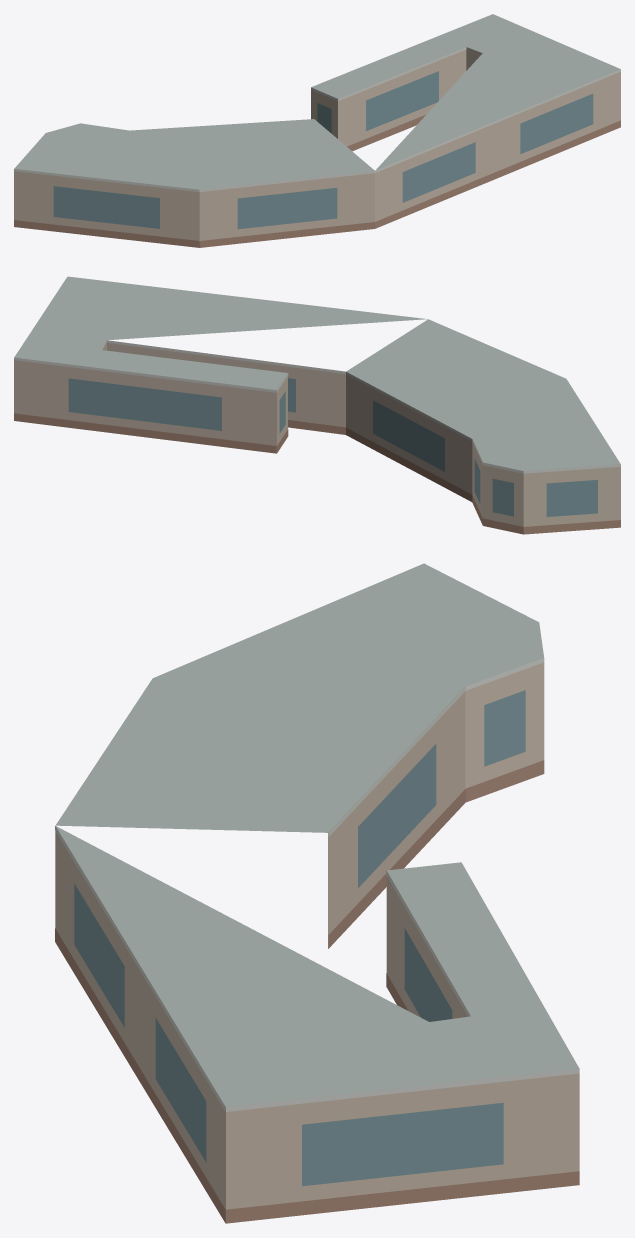
Rendered from survey-upis-32959282.glb.
The picture shows the model from 3 angles, top to bottom: view 1: azimuth 30°, elevation 25°; view 2: azimuth 150°, elevation 25°; view 3: azimuth 270°, elevation 25°; orthographic projection. The views are drawn at different scales.
Visible parts, largest first — view 1: survey-upis-32959282.tmp; view 2: survey-upis-32959282.tmp; view 3: survey-upis-32959282.tmp.
Part boxes in pixels (x1=…): survey-upis-32959282.tmp: x1=14, y1=14, x2=620, y2=247; survey-upis-32959282.tmp: x1=14, y1=276, x2=620, y2=534; survey-upis-32959282.tmp: x1=55, y1=563, x2=579, y2=1223.
Bounding box in the file's own units: 30.6 × 3.05 × 12.47.
